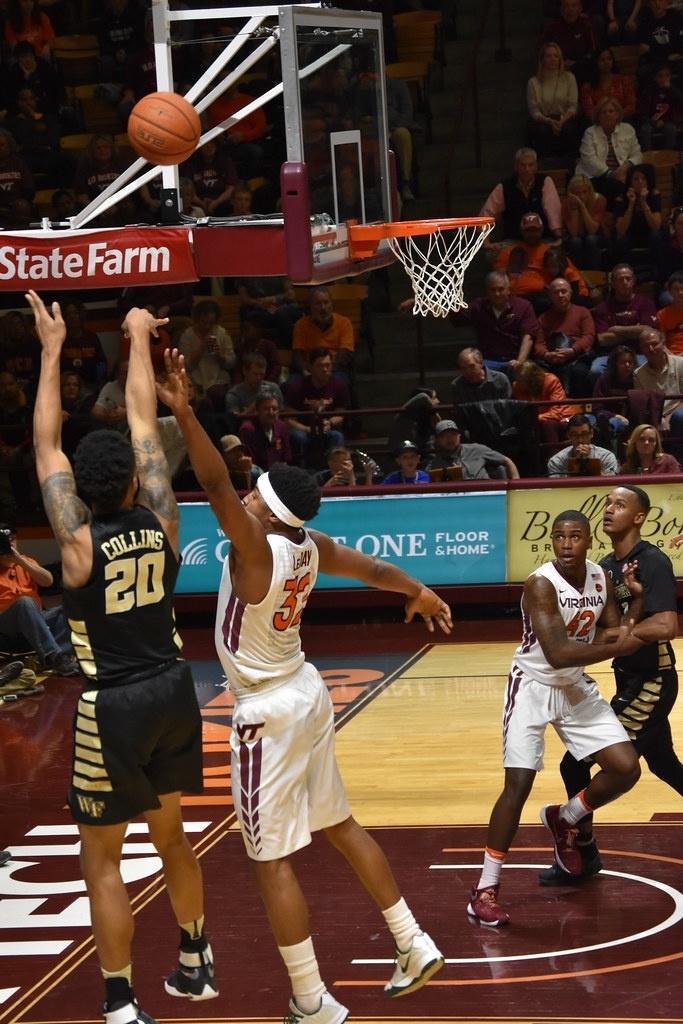basketball-player: (152, 343, 454, 1022), (35, 276, 210, 1024), (484, 498, 638, 932), (558, 468, 680, 892)
